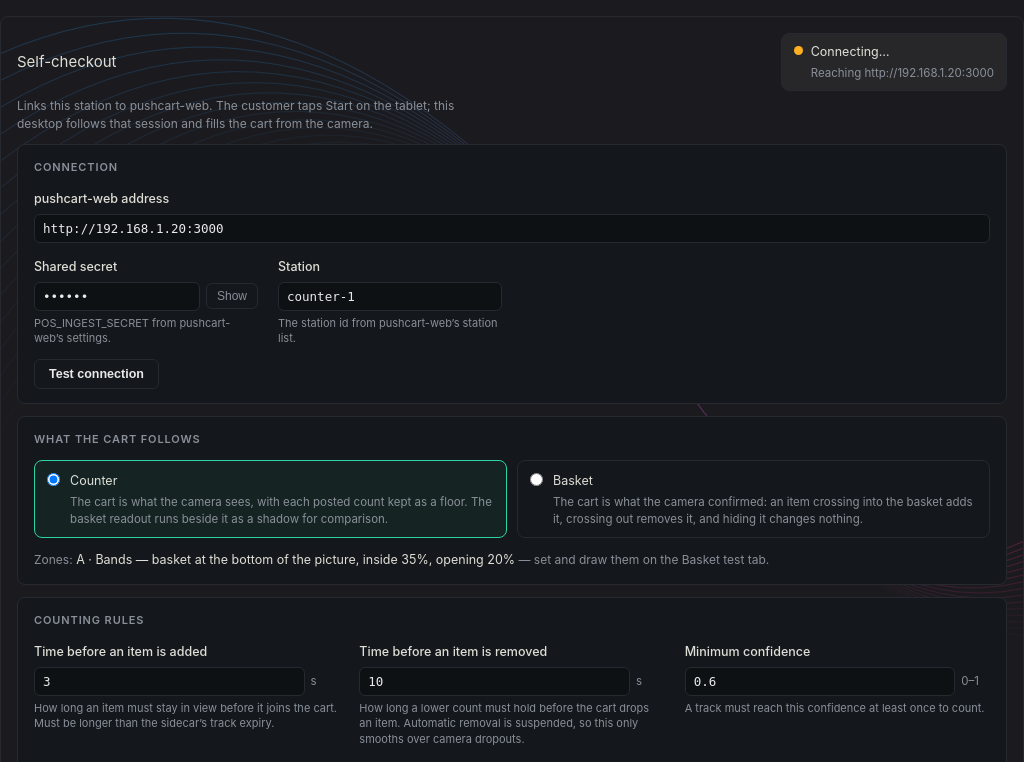
Scenario: PosAdminSection › shows a save refusal in the main process's own words
Expected: the field with test id "pos-base-url" holds "http://192.168.1.20:3000", [34,214,990,243]
Step 1. Replace the text in the number field with test id "pos-commitDwellS" with "1" → coordinates (169, 682), box [34,667,305,696]
(page scrolled)
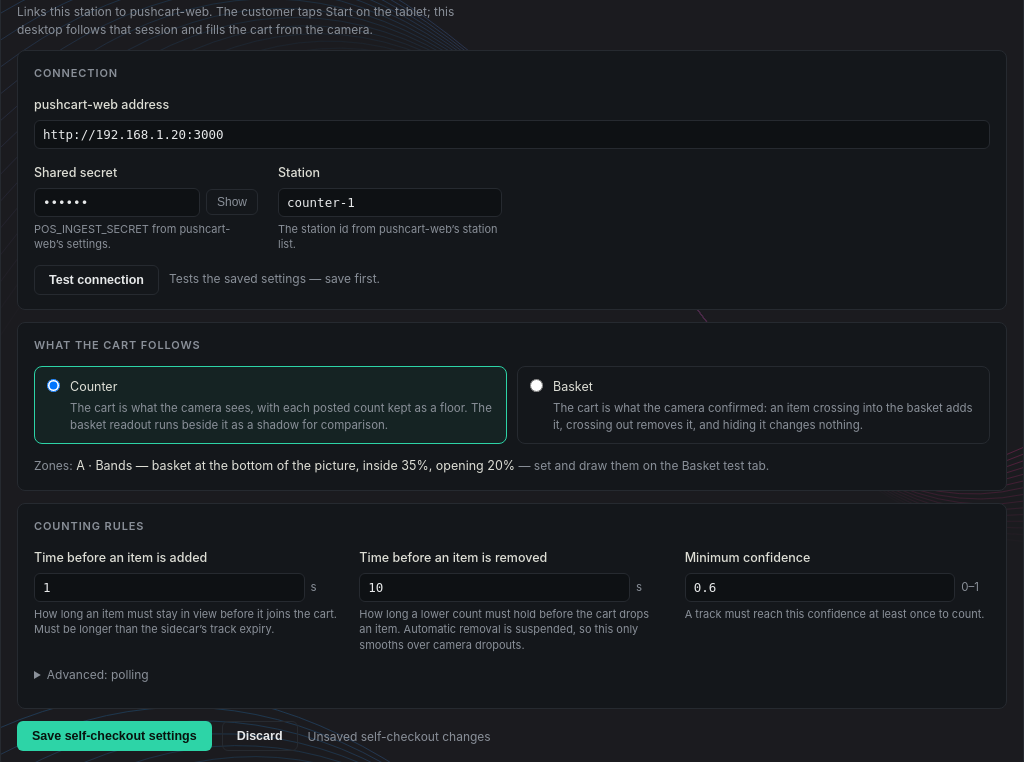
Step 2. Click the button "Save self-checkout settings" → coordinates (114, 736), box [17,721,212,751]
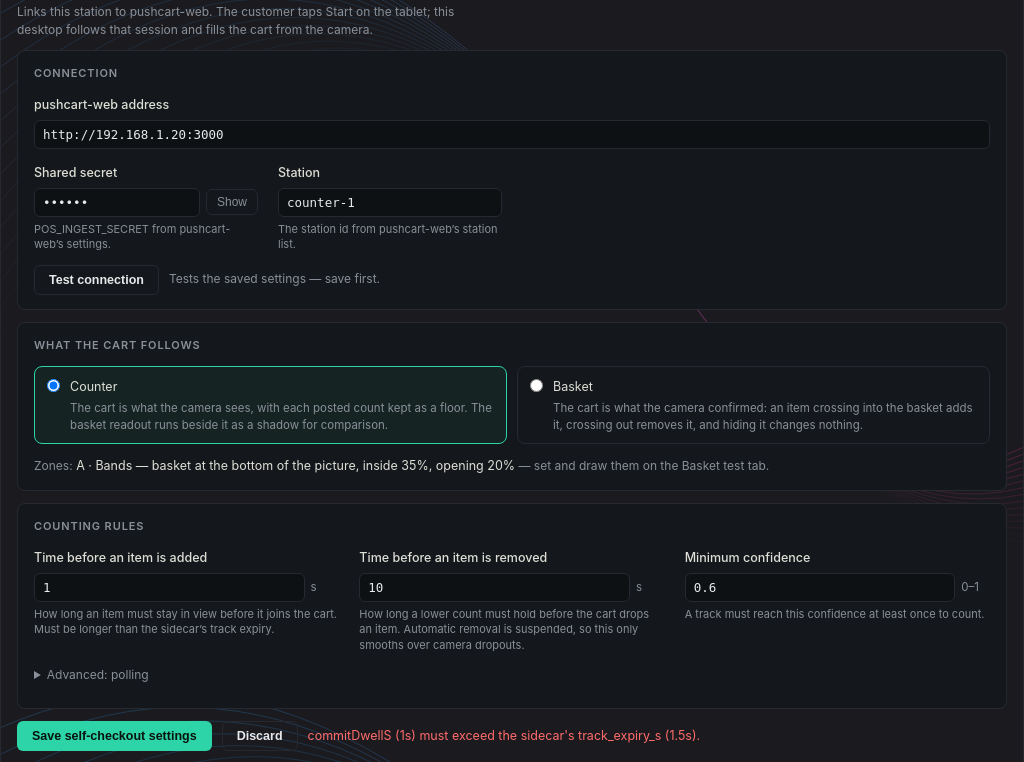
Expected: the message with test id "pos-save-message" does not show "Error invoking", [308,726,700,746]
Expected: the message with test id "pos-save-message" reads "commitDwellS (1s) must exceed the sidecar's track_expiry_s (1.5s).", [308,728,700,743]
